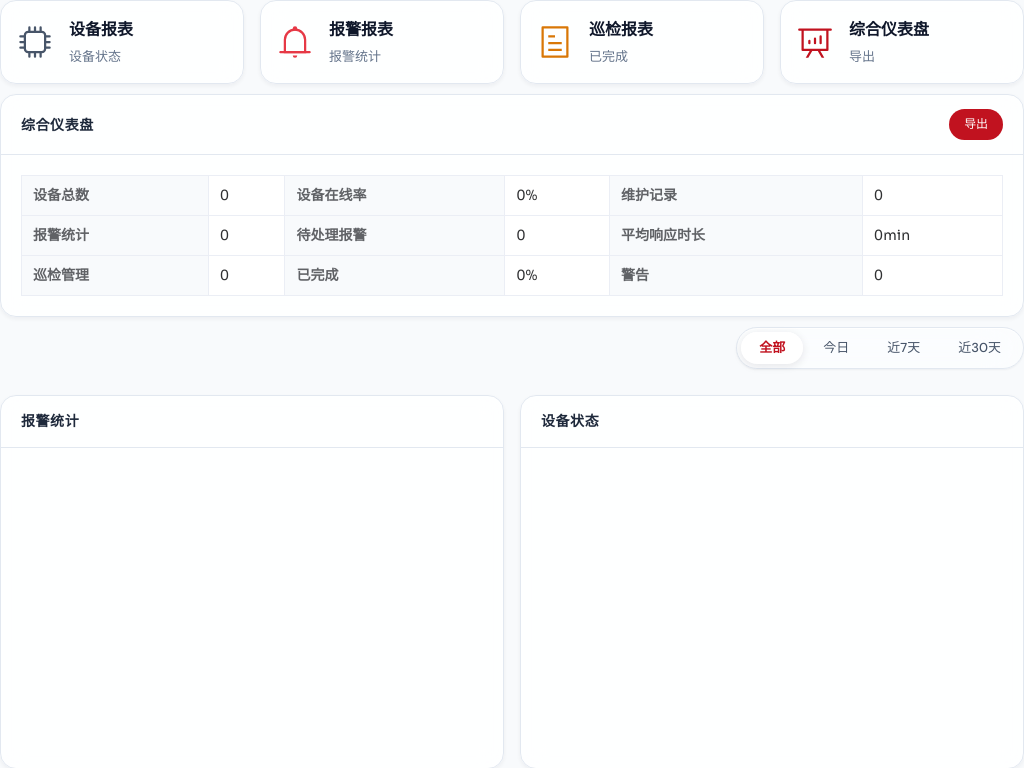
Test: ReportView 导出权限门控 › 反向对照：有 report:export 时第四张卡片在，且点它会打开导出对话框
What coordinates should you click on to do the following:
click the element with class "report-card" next to "巡检报表"
I would click on:
 (902, 42)
Its box is [780,0,1023,84].
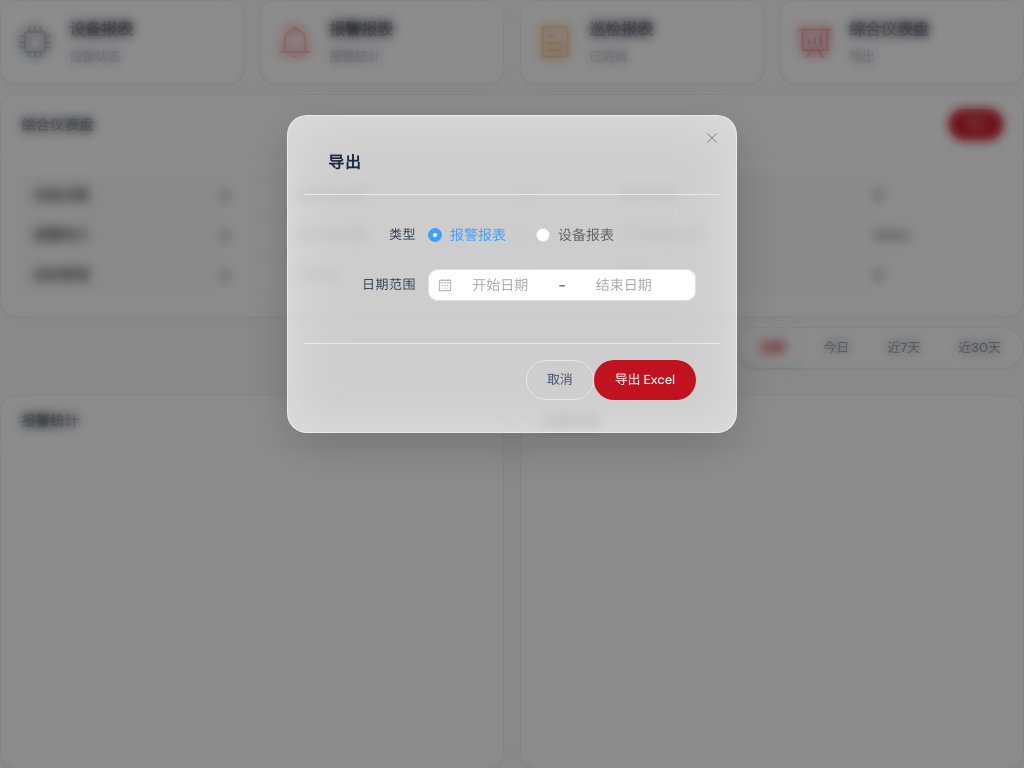
expect the element showing "导出 类型 报警报表 设备报表 日期范围 - 取消 导出 Excel" is shown: met, box [287,115,737,433]
